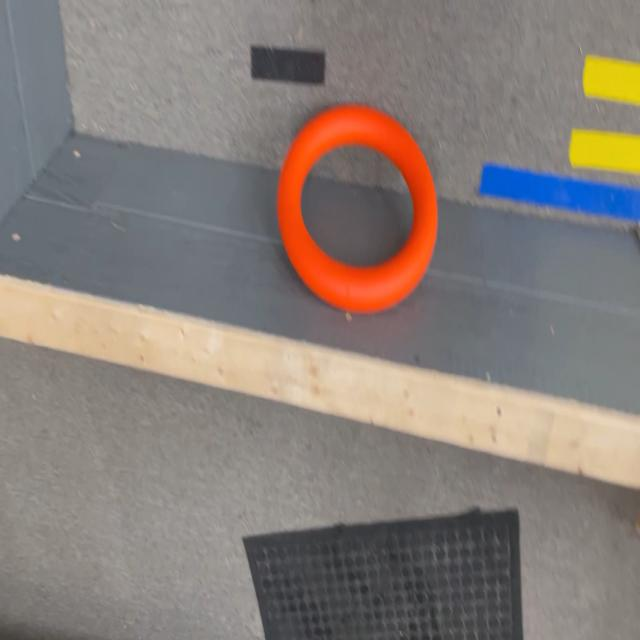note: (277, 105, 438, 313)
